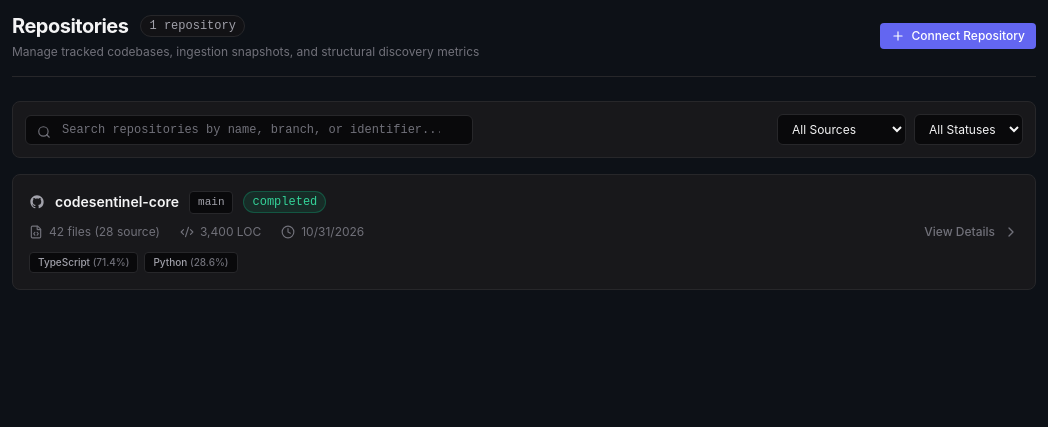
RepositoriesPage Component › filters repositories by search query and clears filters
The width and height of the screenshot is (1048, 427).
Expected: the text "codesentinel-core" is shown, [55,192,179,212]
Type "non-existent-query" into the field with placeholder "Search repositories by name, branch, or identifier...".
click(249, 130); type("non-existent-query")  # box [25,114,473,144]
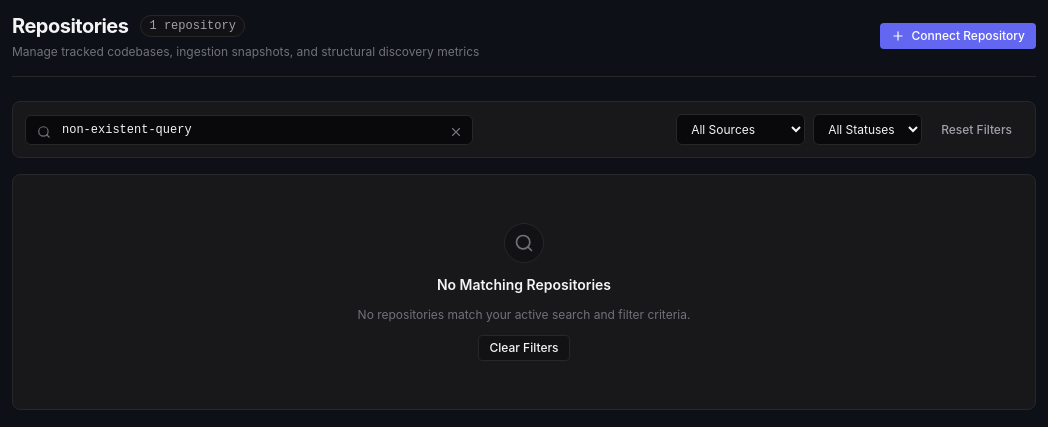
Expected: the heading "No Matching Repositories" is shown, [437,276,611,293]
# Clear filters
Click the button "Clear Filters".
click(524, 348)  # box [478,335,570,361]
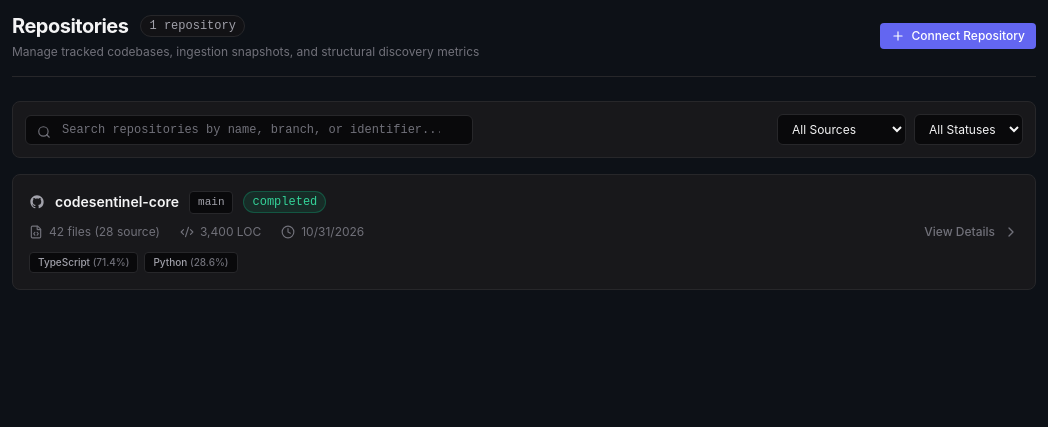
Expected: the text "codesentinel-core" is shown, [55,192,179,212]
